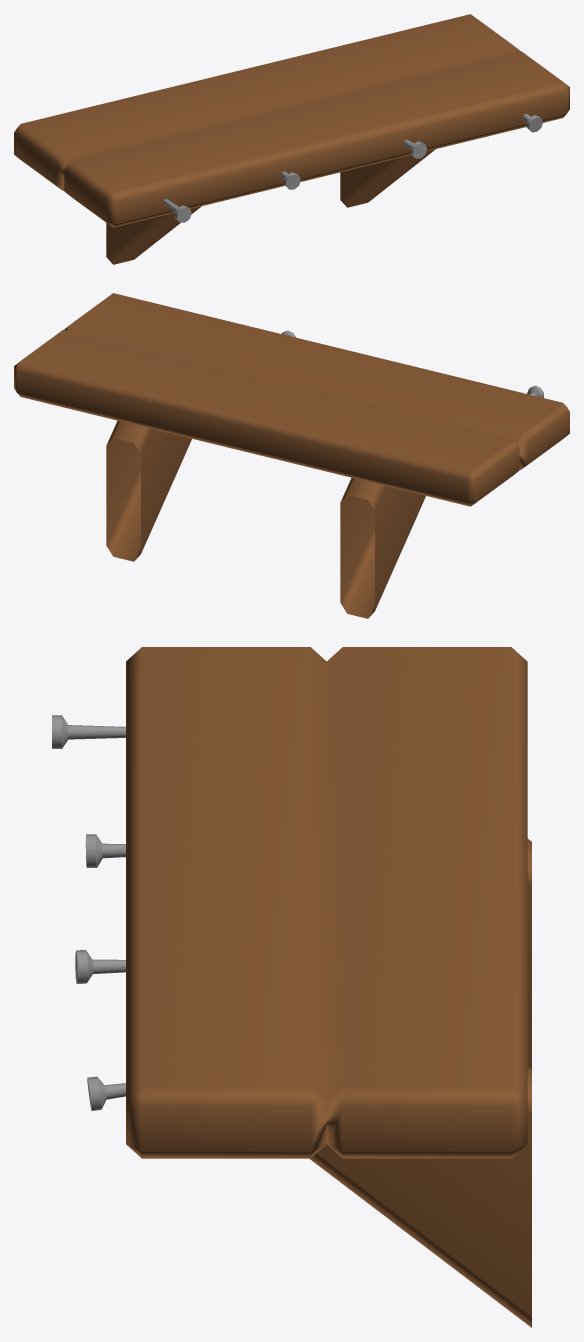
File: Shelf1m.fbx
3 renders of one model, top to bottom at view 1: azimuth 30°, elevation 25°; view 2: azimuth 150°, elevation 25°; view 3: azimuth 270°, elevation 25°, orthographic. The views are drawn at different scales.
Visible parts, largest first — view 1: Shelf1m; view 2: Shelf1m; view 3: Shelf1m.
Boxes of the visible parts, left/top/right/bottom form: Shelf1m: left=14, top=14, right=569, bottom=264; Shelf1m: left=14, top=293, right=569, bottom=618; Shelf1m: left=52, top=647, right=531, bottom=1327.
Size of the model in its own units: 100 by 34.74 by 44.81.
